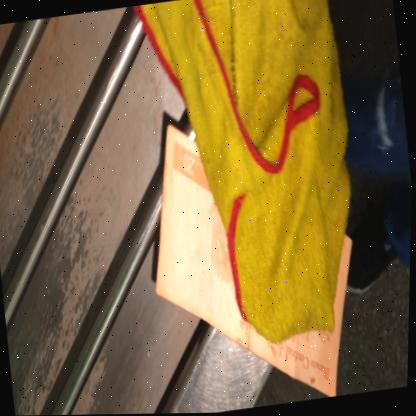twenty-back-vef: (133, 101, 374, 414)
